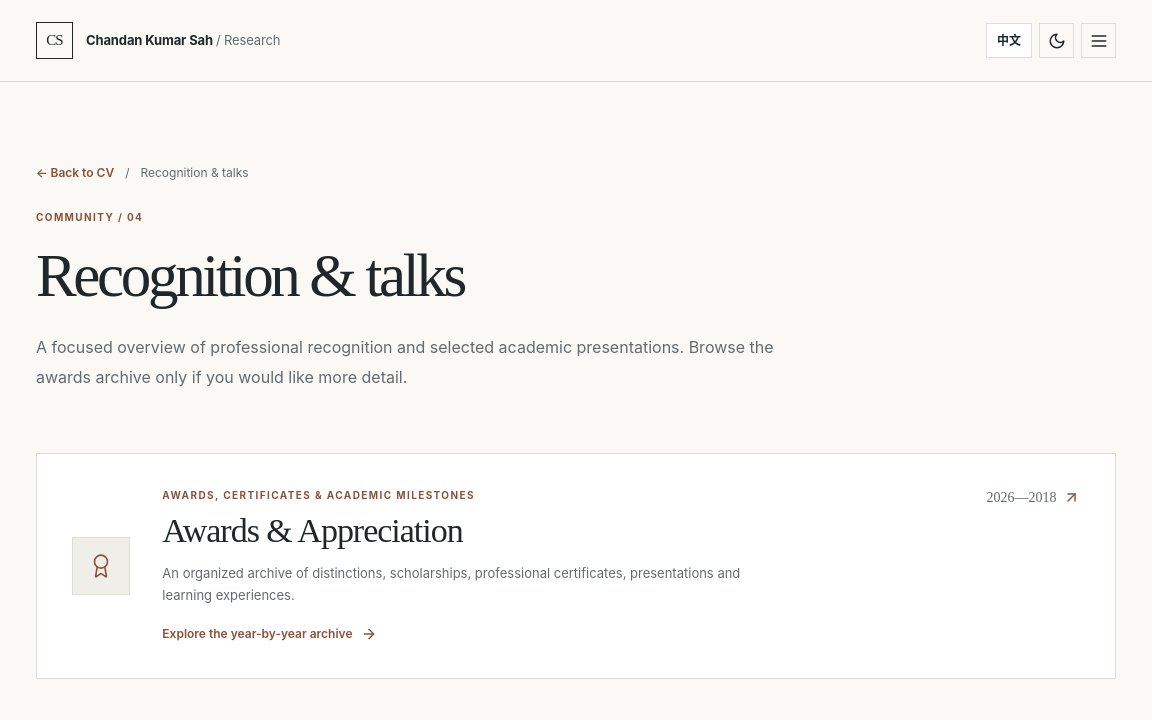
Scenario: professional Simplified Chinese localization › provides a translated return-to-CV breadcrumb on the existing Recognition page
The image size is (1152, 720).
What coordinates should you click on to do the following:
click the button with aria-label "Switch website to Simplified Chinese"
I would click on:
 (1009, 40)
Its box is x1=986 y1=23 x2=1032 y2=58.
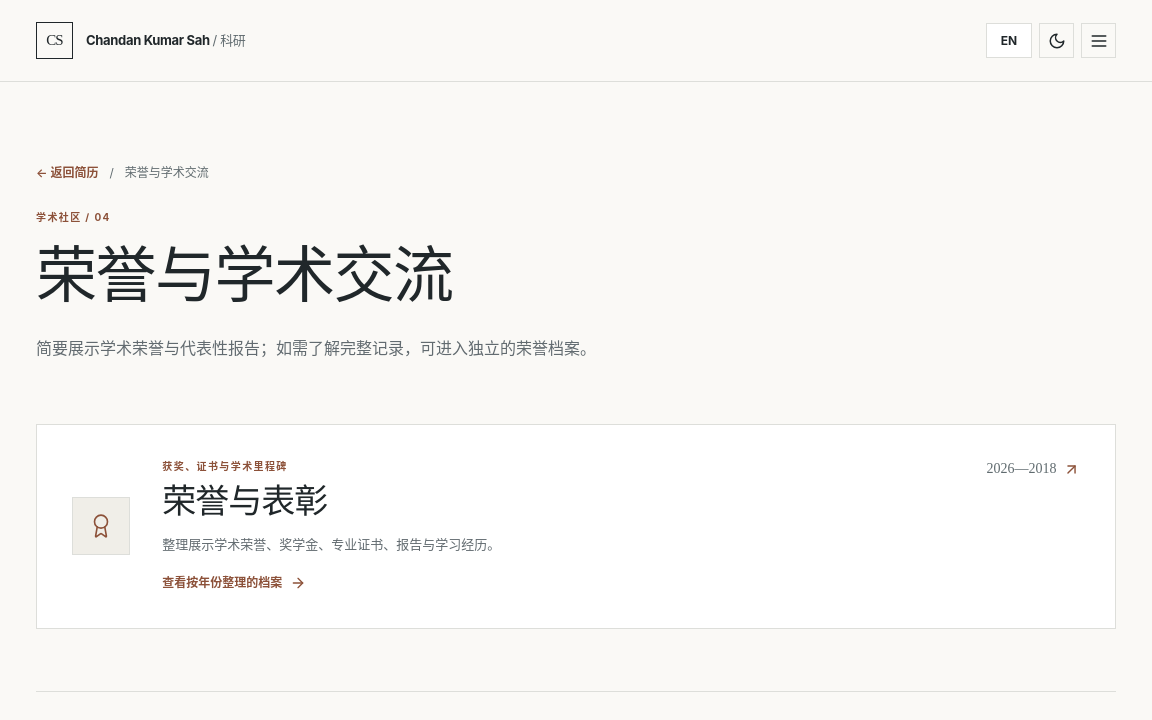
Now the heading "荣誉与学术交流" is shown, box x1=36 y1=238 x2=453 y2=312
